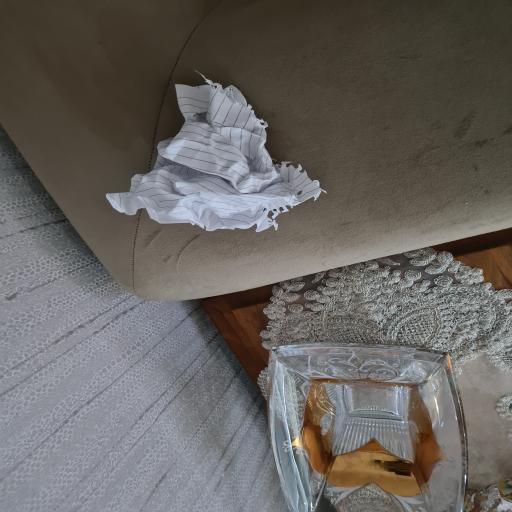Kertas: (109, 83, 321, 231)
